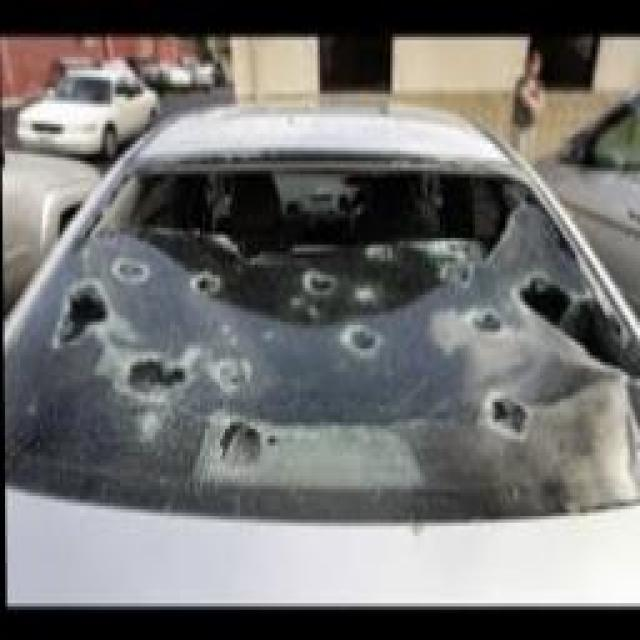replaceable: (15, 162, 640, 500)
